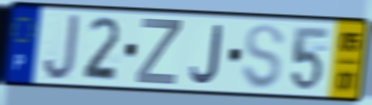2: (81, 15, 121, 83)
5: (290, 25, 332, 93)
J: (41, 12, 82, 82), (189, 23, 224, 86)
S: (240, 22, 287, 92)
Z: (133, 16, 184, 88)
